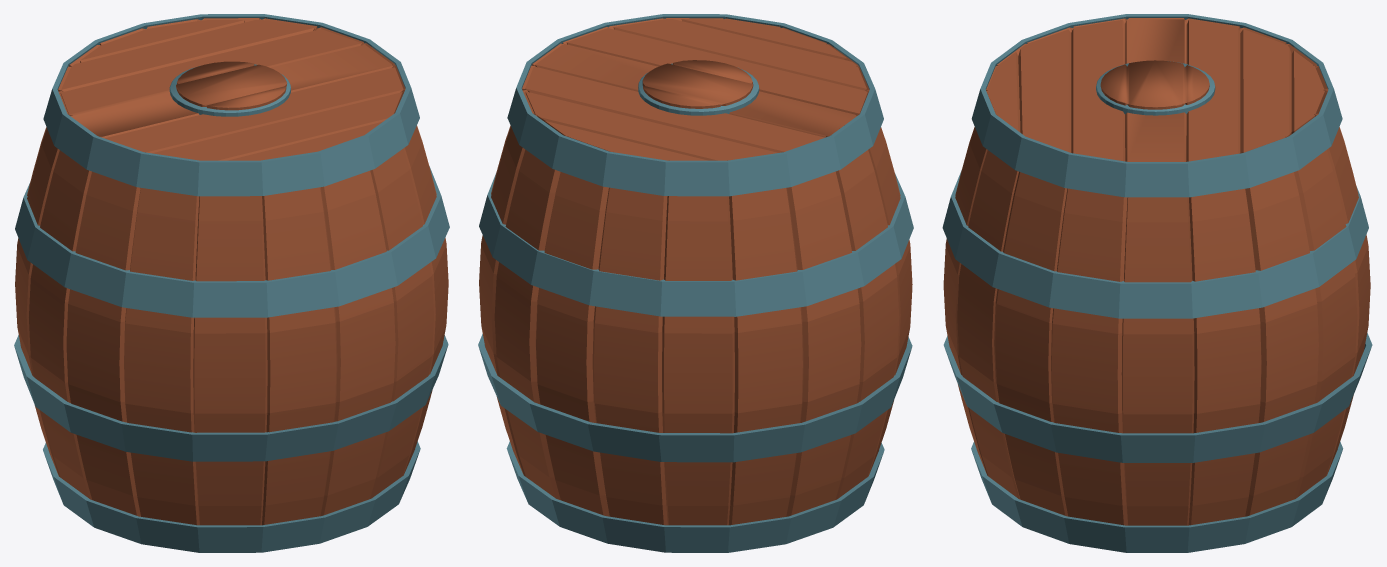
Rendered from Barrel_V01.fbx.
The picture shows the model from 3 angles, left to right: view 1: azimuth 30°, elevation 25°; view 2: azimuth 150°, elevation 25°; view 3: azimuth 270°, elevation 25°; orthographic projection.
Visible parts, largest first — view 1: Barrel_V01, Lid_Movable_Part_2, Lid_Movable_Part_1; view 2: Barrel_V01, Lid_Movable_Part_2, Lid_Movable_Part_1; view 3: Barrel_V01, Lid_Movable_Part_2, Lid_Movable_Part_1.
Part boxes in pixels (left/top/right/bottom): Barrel_V01: left=14, top=14, right=449, bottom=552; Lid_Movable_Part_2: left=176, top=61, right=287, bottom=110; Lid_Movable_Part_1: left=169, top=64, right=290, bottom=116; Barrel_V01: left=478, top=14, right=913, bottom=552; Lid_Movable_Part_2: left=642, top=60, right=753, bottom=108; Lid_Movable_Part_1: left=638, top=63, right=759, bottom=115; Barrel_V01: left=942, top=14, right=1372, bottom=552; Lid_Movable_Part_2: left=1100, top=60, right=1209, bottom=109; Lid_Movable_Part_1: left=1096, top=61, right=1215, bottom=115.
Size of the model in its own units: 130 by 132 by 130.
